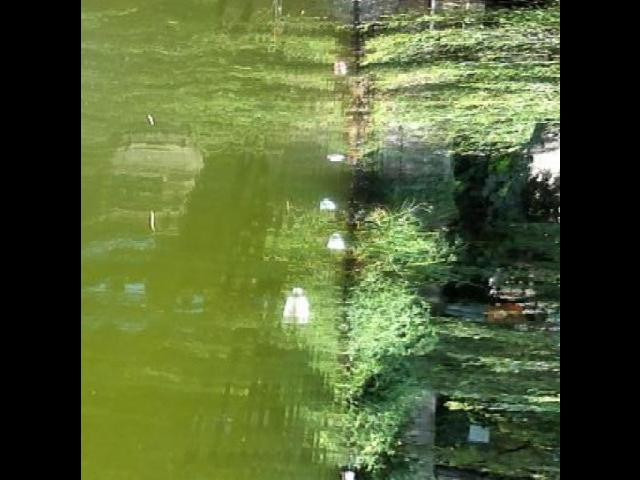Waste: (281, 278, 313, 336), (328, 228, 347, 262), (316, 190, 337, 218), (321, 148, 351, 166)
